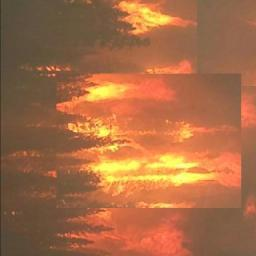Large fire: (35, 151, 220, 188)
Medium fire: (31, 4, 192, 146)
